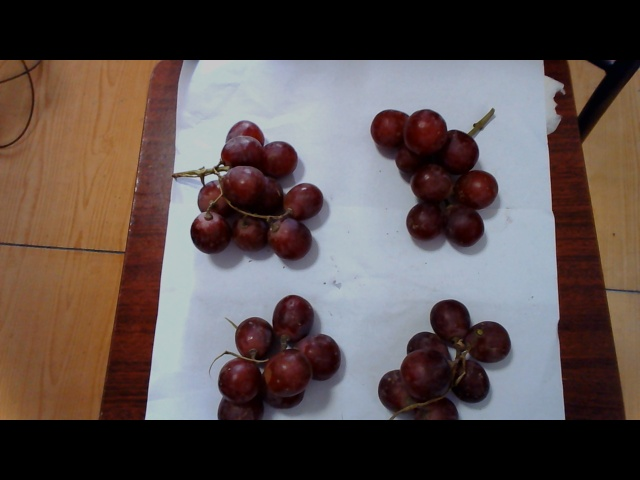grape: (186, 120, 326, 259), (374, 99, 507, 242), (190, 301, 355, 416), (362, 294, 511, 416)
